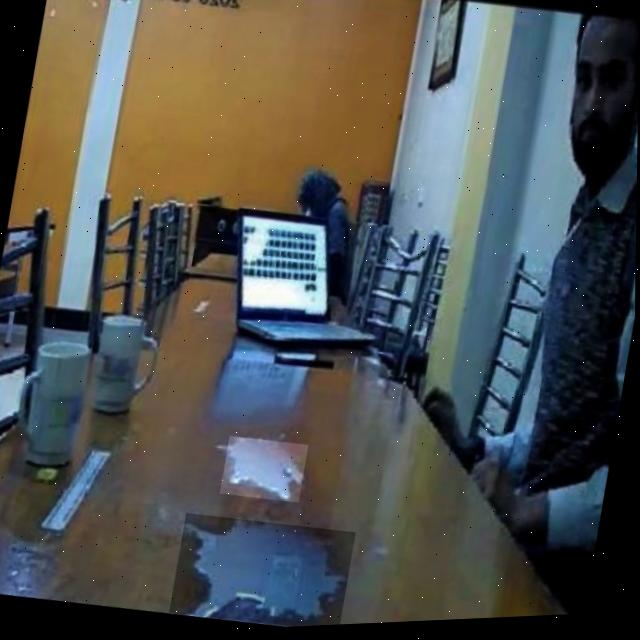spillage: (186, 526, 349, 626), (229, 443, 304, 503)
